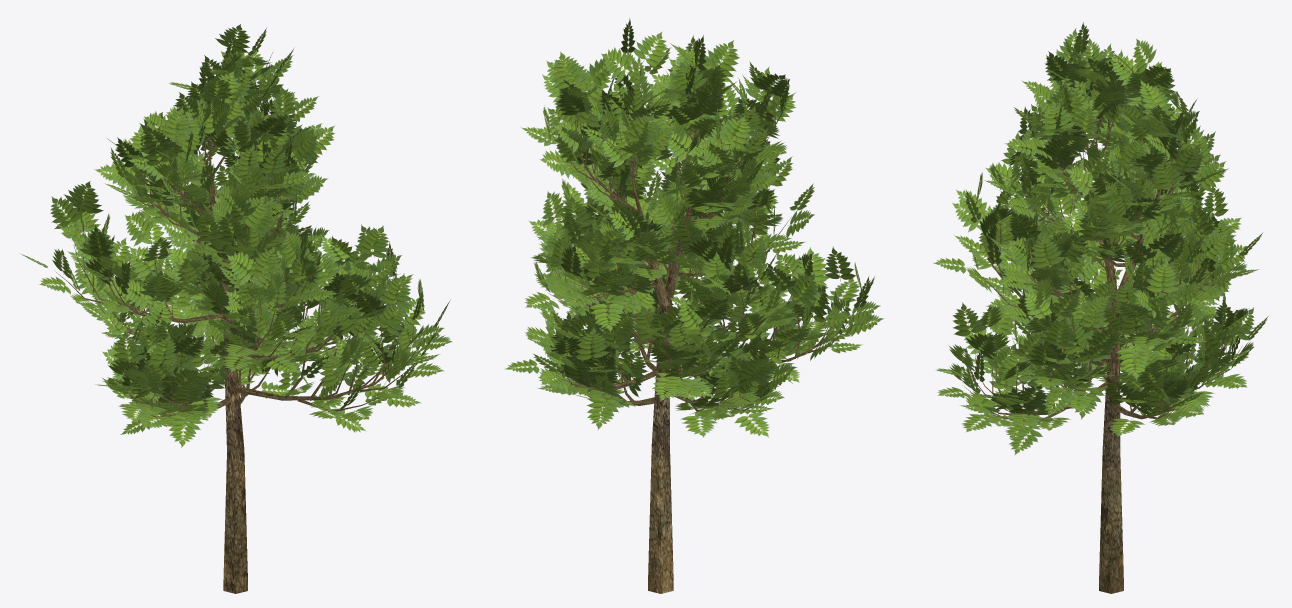
File: tree3.glb
The picture shows the model from 3 angles, left to right: view 1: azimuth 30°, elevation 25°; view 2: azimuth 150°, elevation 25°; view 3: azimuth 270°, elevation 25°; orthographic projection. The views are drawn at different scales.
Parts seen in each view (by area): view 1: Low Poly Tree 2 Leaves, Low Poly Tree 2 Trunk; view 2: Low Poly Tree 2 Leaves, Low Poly Tree 2 Trunk; view 3: Low Poly Tree 2 Leaves, Low Poly Tree 2 Trunk.
Part boxes in pixels (x1=…): Low Poly Tree 2 Leaves: x1=21, y1=24, x2=452, y2=447; Low Poly Tree 2 Trunk: x1=54, y1=53, x2=430, y2=593; Low Poly Tree 2 Leaves: x1=505, y1=18, x2=884, y2=437; Low Poly Tree 2 Trunk: x1=548, y1=63, x2=858, y2=593; Low Poly Tree 2 Leaves: x1=932, y1=22, x2=1268, y2=455; Low Poly Tree 2 Trunk: x1=962, y1=79, x2=1241, y2=593.
Bounding box in the file's own units: 12.01 × 18.41 × 10.48.
2 materials, 2 textured.
